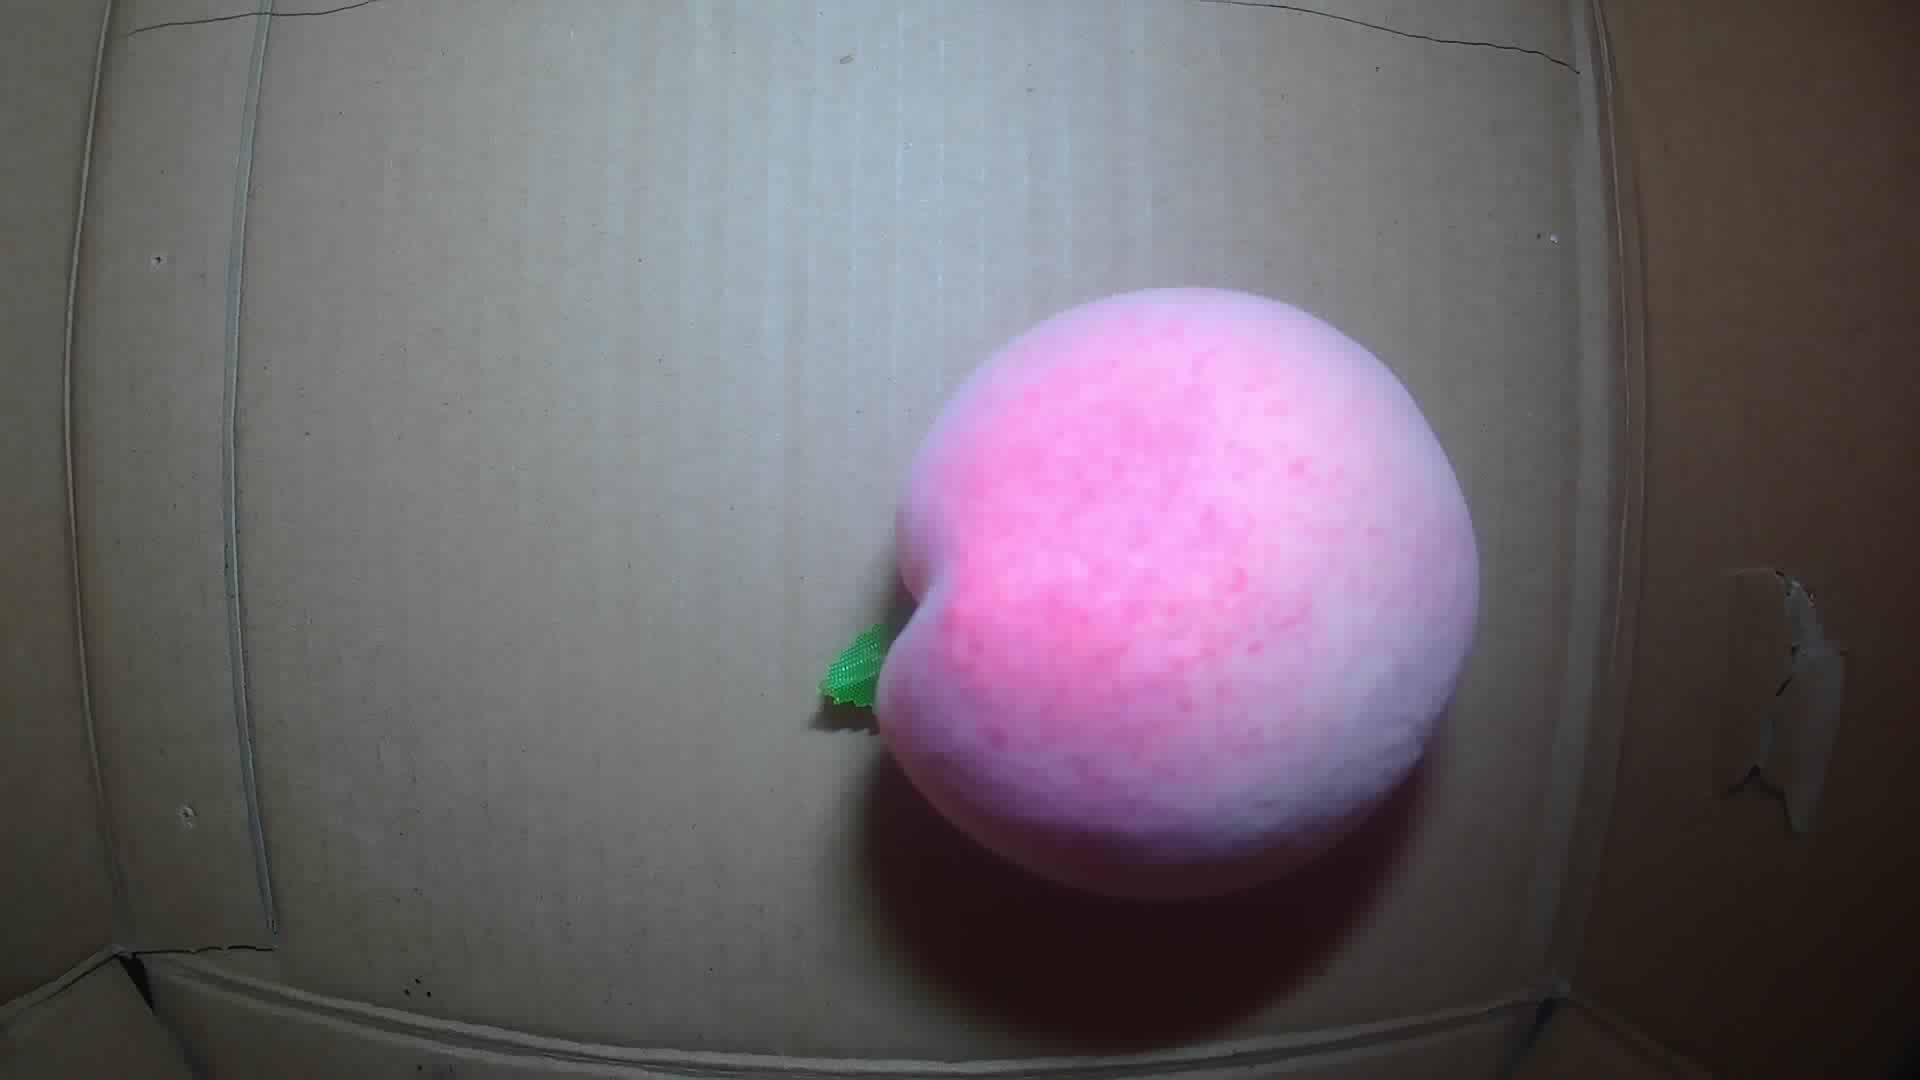peach: (822, 286, 1481, 898)
